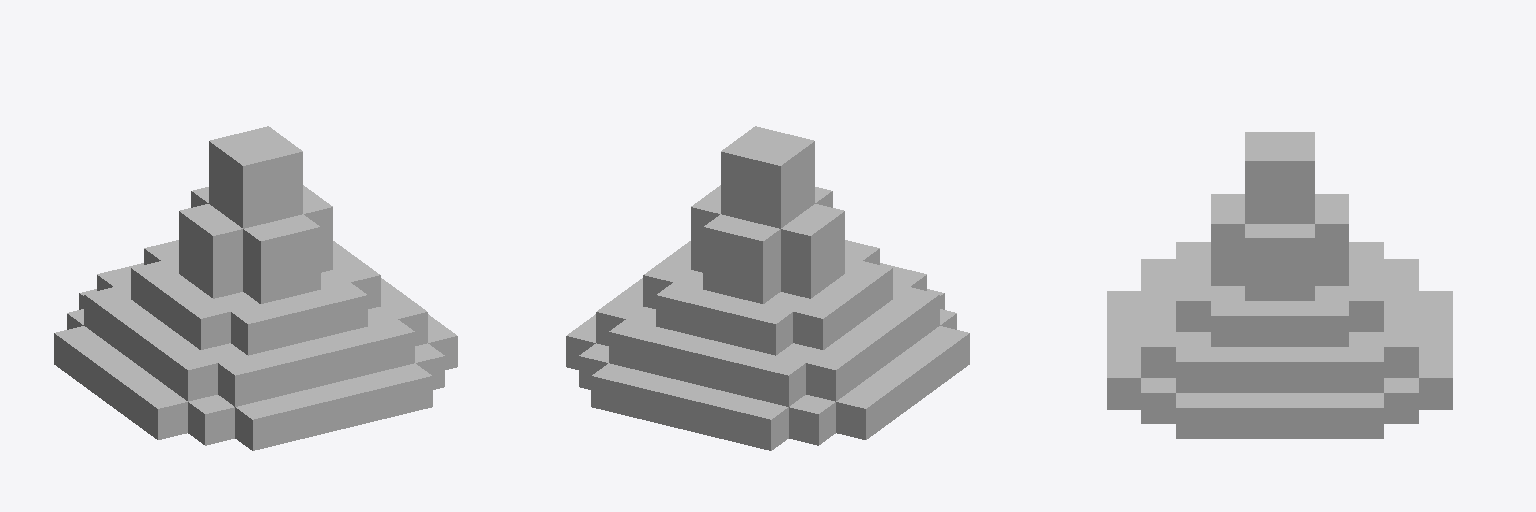
Rendered from Snowman_Hat_2.obj.
3 renders of one model, left to right at view 1: azimuth 30°, elevation 25°; view 2: azimuth 150°, elevation 25°; view 3: azimuth 270°, elevation 25°, orthographic.
Visible parts, largest first — view 1: object 1; view 2: object 1; view 3: object 1.
Part boxes in pixels (x1,y1,x2,y2): object 1: (54, 126, 457, 450); object 1: (566, 126, 969, 450); object 1: (1107, 132, 1452, 438).
Bounding box in the file's own units: 1 × 0.7 × 1.